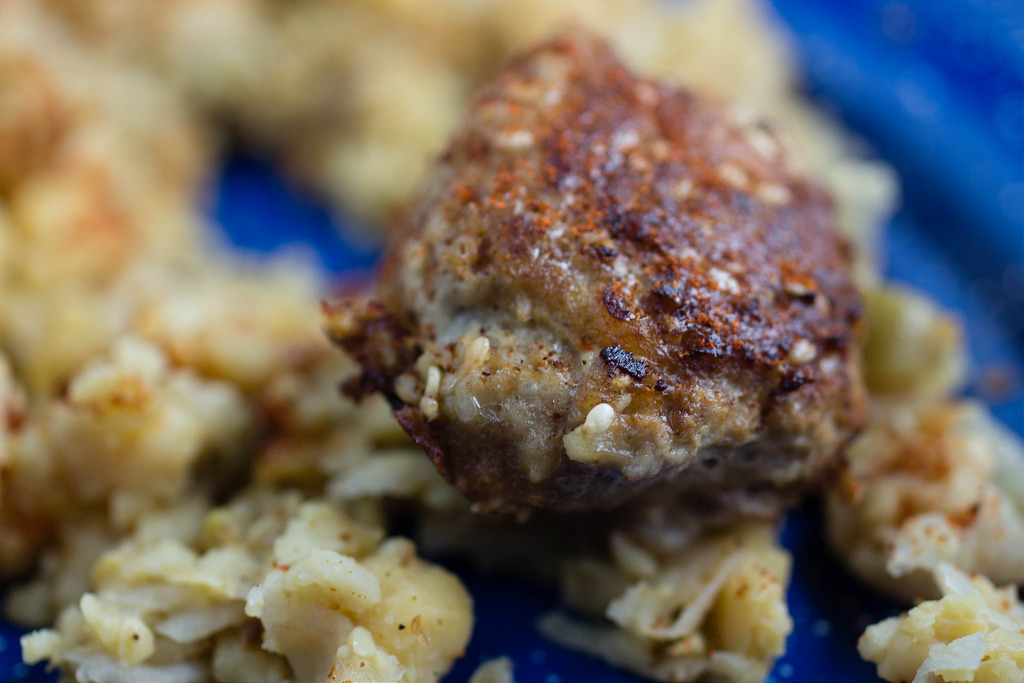meatballs: (352, 46, 886, 506)
